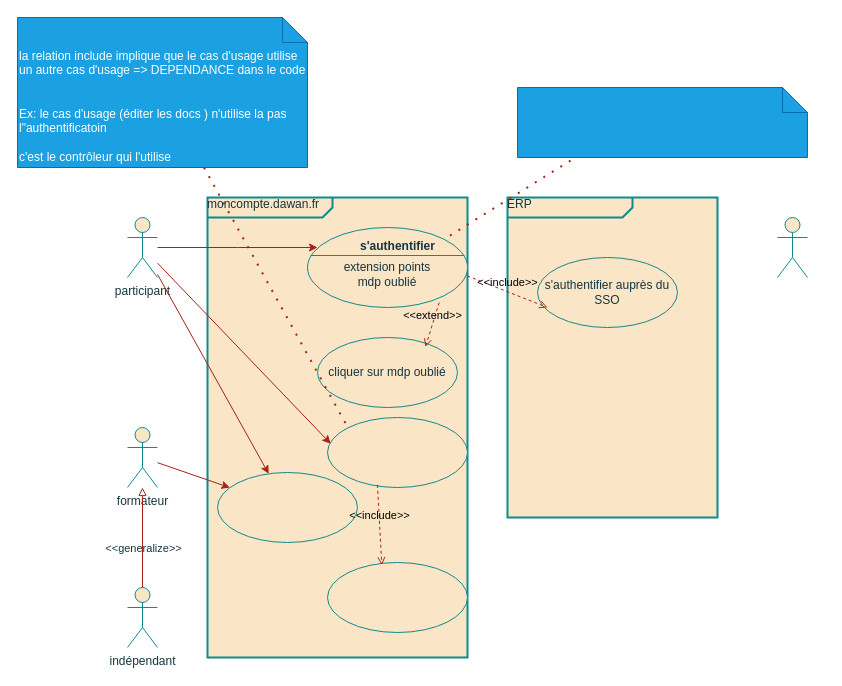
Some shapes in this 842 by 686 pixel diagram are drawn without their labels. Each missing label, with the centre of its shape:
"accéder au doc de l'intervention" goes at (287,507).
"administratif" goes at (792,247).
"créer la signature" goes at (397,597).
"la relation extend implique que le cas d'usage peut utliser un autre cas d'usage" goes at (662,122).
"éditer les docs..." goes at (397,452).
